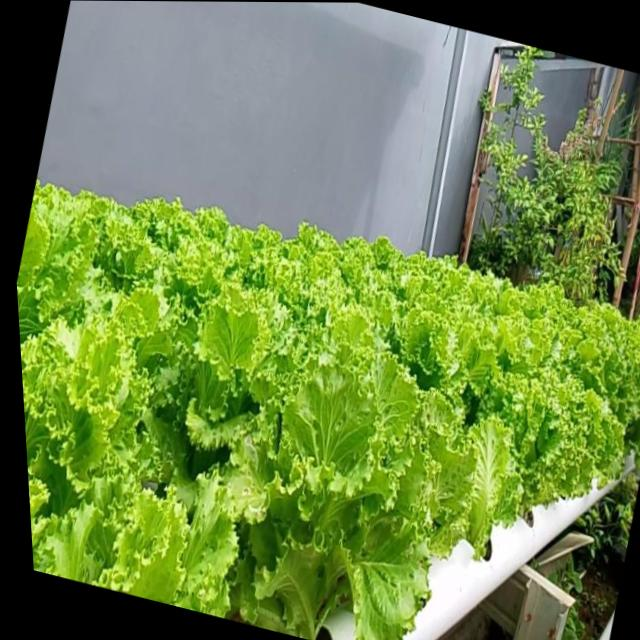Mature: (17, 147, 640, 640), (257, 331, 457, 627), (490, 312, 640, 516)
